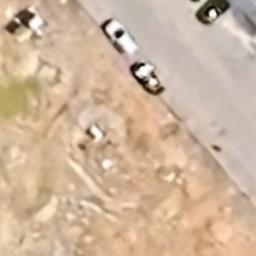SUV: (104, 16, 140, 54)
sedan: (129, 64, 166, 96), (198, 0, 233, 27)
